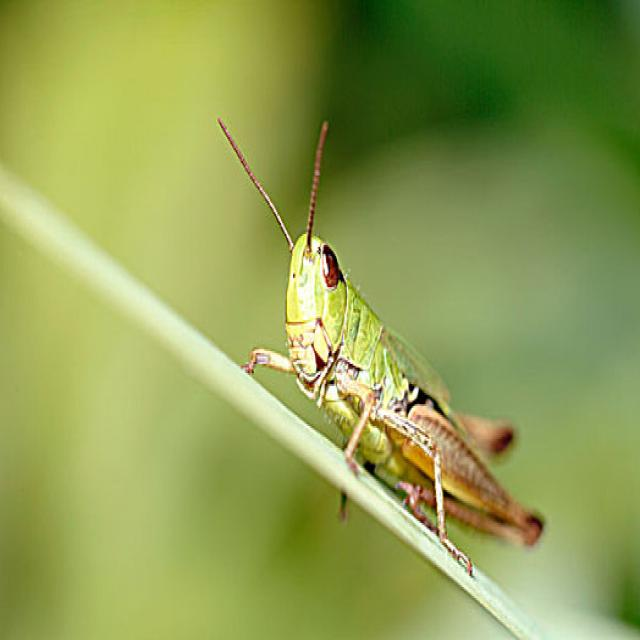ZhaMeng: (212, 97, 549, 585)
